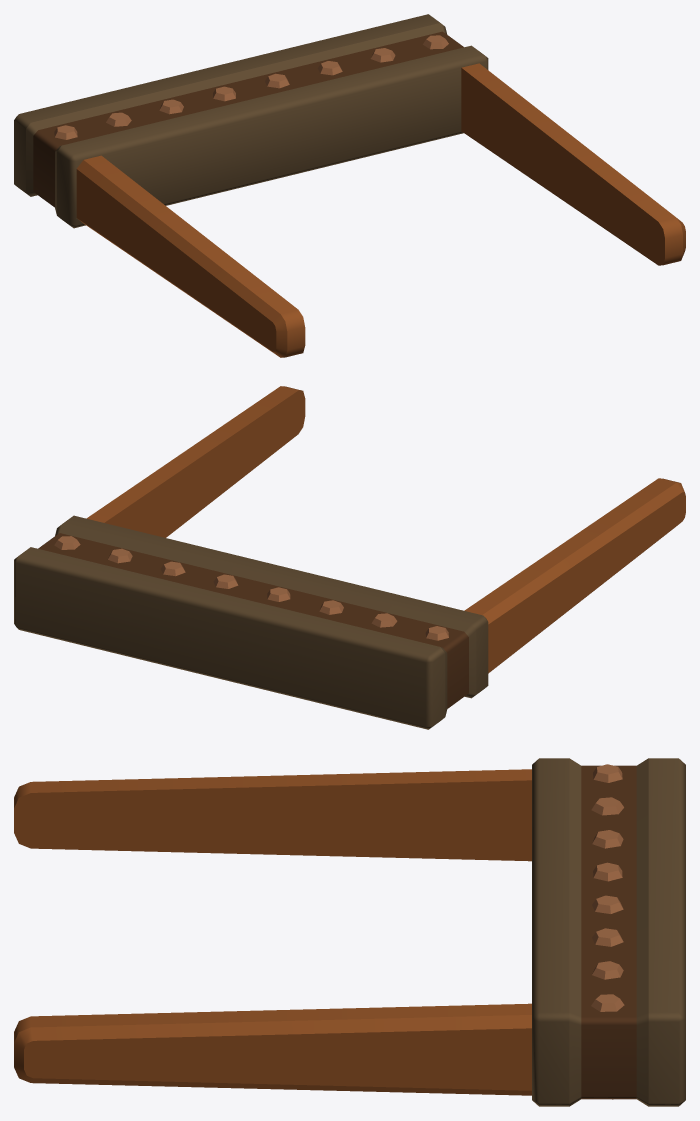
Rendered from obstacle_14_001.fbx.
3 renders of one model, top to bottom at view 1: azimuth 30°, elevation 25°; view 2: azimuth 150°, elevation 25°; view 3: azimuth 270°, elevation 25°, orthographic. The views are drawn at different scales.
Parts seen in each view (by area): view 1: obstacle_14_001; view 2: obstacle_14_001; view 3: obstacle_14_001.
Part boxes in pixels (<box>): obstacle_14_001: <box>14,14,685,357</box>; obstacle_14_001: <box>14,386,685,729</box>; obstacle_14_001: <box>14,758,685,1106</box>.
Bounding box in the file's own units: 400 × 436 × 68.7.
